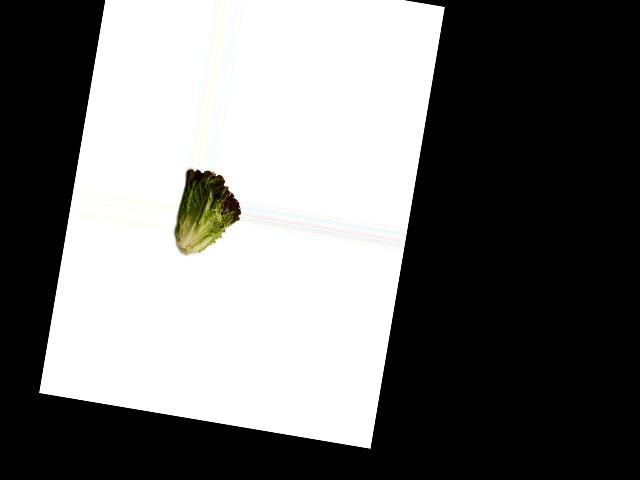lettuce: (173, 165, 245, 261)
